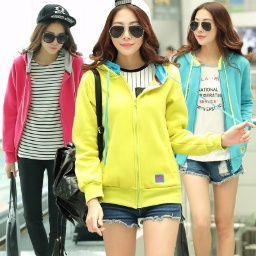face: (100, 4, 154, 62), (186, 2, 232, 49), (29, 16, 74, 58)
